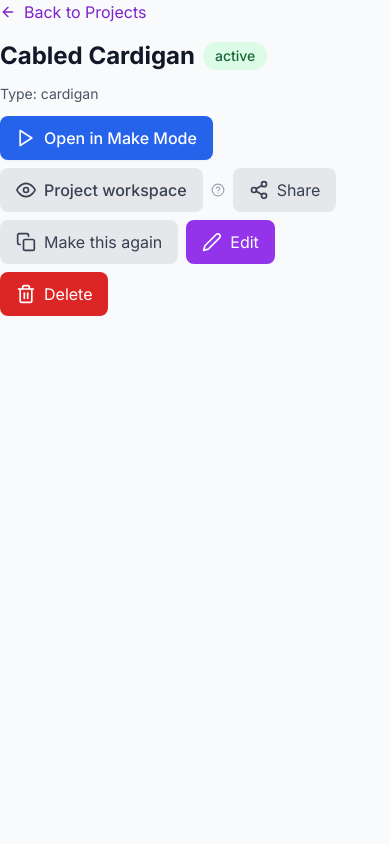
Test: ProjectHeader unified Make Mode entry › opens the picker (NOT direct-navigates) when the project has multiple patterns but only one has a canonical twin
Click the button with test id "project-open-make-mode" at [106, 138], box [0,116,213,160]
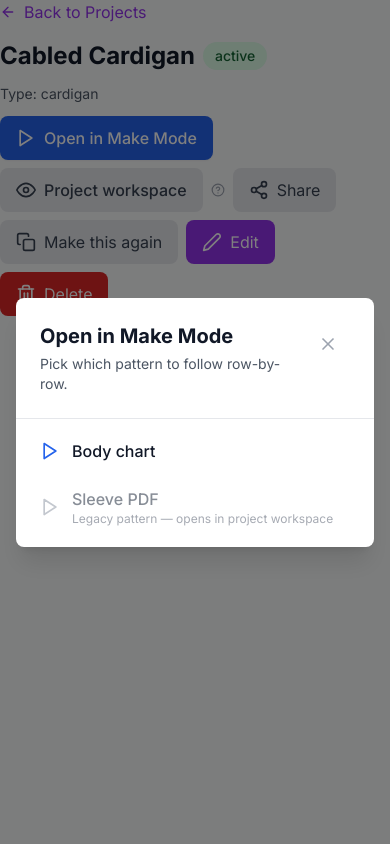
Check: the list with test id "make-mode-picker-list" is shown, box [40,440,333,526]
Check: the number of links with test id "make-mode-picker-canonical-row" is 1, box [40,440,156,460]
Check: the number of list items with test id "make-mode-picker-legacy-row" is 1, box [40,488,333,526]
